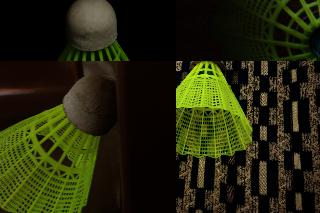shuttlecock: (0, 74, 116, 212), (31, 0, 158, 60), (176, 61, 253, 158), (210, 0, 319, 60)
